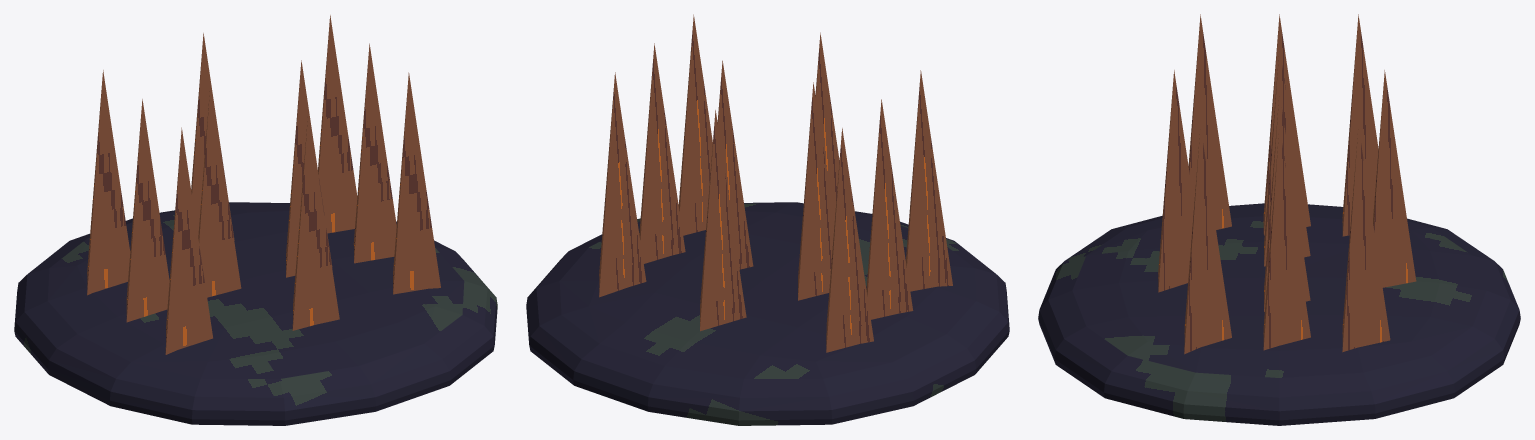
Rendered from PrototypeEagle.obj.
3 renders of one model, left to right at view 1: azimuth 30°, elevation 25°; view 2: azimuth 150°, elevation 25°; view 3: azimuth 270°, elevation 25°, orthographic.
Parts seen in each view (by area): view 1: Base.005, Cone.030, Cone.036, Cone.035, Cone.024, Cone.034, Cone.029, Cone.031, Cone.022, Cone.021, Cone.023; view 2: Base.005, Cone.035, Cone.031, Cone.036, Cone.034, Cone.023, Cone.029, Cone.022, Cone.030, Cone.021, Cone.024; view 3: Base.005, Cone.031, Cone.030, Cone.029, Cone.023, Cone.024, Cone.036, Cone.035, Cone.022, Cone.034, Cone.021.
Part boxes in pixels (x1,y1,x2,y2): Base.005: (14, 202, 497, 425); Cone.030: (393, 72, 440, 294); Cone.036: (165, 127, 212, 354); Cone.035: (87, 70, 130, 295); Cone.024: (292, 109, 339, 330); Cone.034: (126, 99, 169, 322); Cone.029: (353, 43, 396, 263); Cone.031: (318, 15, 357, 233); Cone.022: (198, 83, 241, 297); Cone.021: (286, 60, 332, 277); Cone.023: (191, 33, 234, 240); Base.005: (526, 202, 1009, 425); Cone.035: (826, 128, 873, 352); Cone.031: (599, 72, 646, 297); Cone.036: (905, 70, 952, 291); Cone.034: (866, 99, 913, 319); Cone.023: (700, 110, 746, 331); Cone.029: (639, 43, 685, 263); Cone.022: (798, 82, 834, 300); Cone.030: (678, 14, 712, 235); Cone.021: (717, 60, 753, 269); Cone.024: (815, 32, 839, 222); Base.005: (1038, 203, 1520, 425); Cone.031: (1342, 125, 1390, 352); Cone.030: (1184, 125, 1231, 354); Cone.029: (1263, 125, 1310, 350); Cone.023: (1373, 70, 1416, 287); Cone.024: (1158, 70, 1194, 292); Cone.036: (1188, 14, 1231, 229); Cone.035: (1342, 14, 1378, 236); Cone.022: (1264, 47, 1310, 266); Cone.034: (1263, 14, 1310, 235); Cone.021: (1264, 92, 1310, 311).
Bounding box in the file's own units: 0.9167 × 0.5491 × 0.9167.
